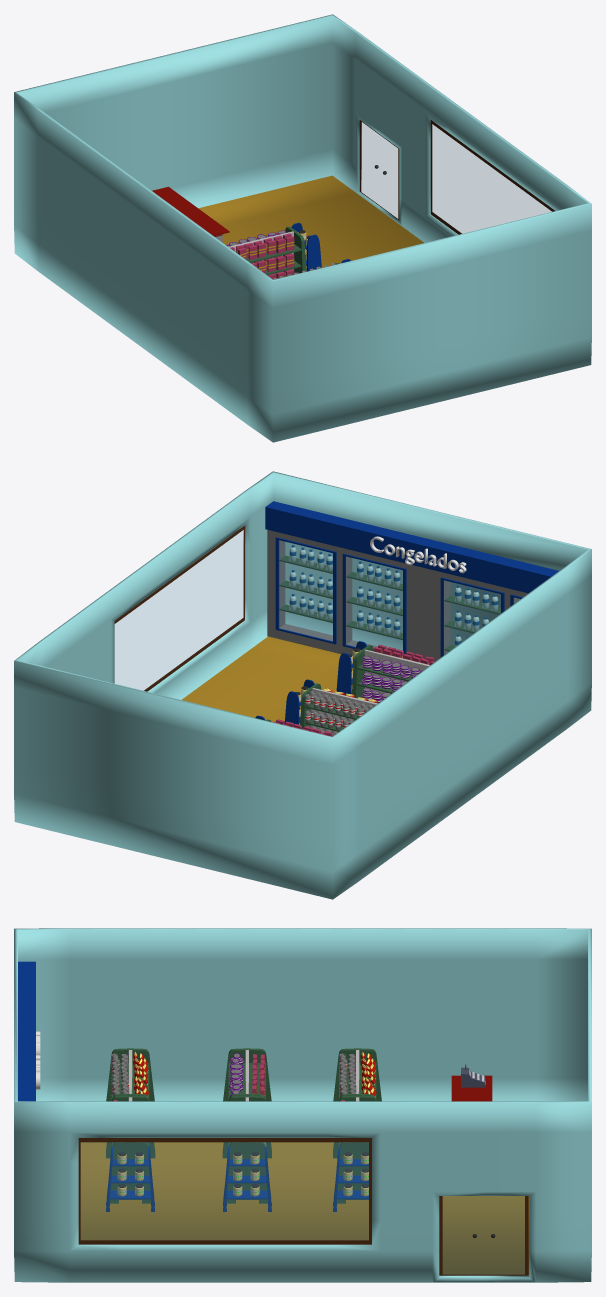
The model's file is Fondo_Tienda.fbx.
3 views of the same model, one above another, from view 1: azimuth 30°, elevation 25°; view 2: azimuth 150°, elevation 25°; view 3: azimuth 270°, elevation 25° (orthographic). The views are drawn at different scales.
Parts seen in each view (by area): view 1: Icosphere.001, Meson, Estante_Grande.004, Estante_Pequeño.002; view 2: Icosphere.001, Congelador, Estante_Grande, Text, Estante_Grande.002, Estante_Pequeño; view 3: Icosphere.001, Congelador, Estante_Grande.002, Estante_Grande, Estante_Grande.003, Estante_Pequeño.001, Estante_Pequeño, Estante_Grande.004, Estante_Grande.005, Estante_Grande.001, Meson, Estante_Pequeño.002.
Boxes of the visible parts, x1,y1,x2,y2 form: Icosphere.001: (14, 14, 591, 442); Meson: (152, 186, 229, 242); Estante_Grande.004: (228, 226, 306, 275); Estante_Pequeño.002: (291, 223, 321, 271); Icosphere.001: (14, 471, 591, 899); Congelador: (265, 501, 558, 661); Estante_Grande: (352, 645, 429, 703); Text: (370, 536, 466, 573); Estante_Grande.002: (300, 683, 377, 732); Estante_Pequeño: (336, 641, 366, 694); Icosphere.001: (14, 928, 591, 1282); Congelador: (18, 961, 35, 1101); Estante_Grande.002: (222, 1095, 271, 1203); Estante_Grande: (106, 1095, 155, 1203); Estante_Grande.003: (223, 1048, 271, 1101); Estante_Pequeño.001: (223, 1146, 271, 1211); Estante_Pequeño: (106, 1146, 154, 1211); Estante_Grande.004: (333, 1095, 376, 1203); Estante_Grande.005: (333, 1048, 381, 1101); Estante_Grande.001: (106, 1048, 154, 1101); Meson: (451, 1075, 492, 1101); Estante_Pequeño.002: (333, 1146, 368, 1211).
Size of the model in its own units: 30157 by 14514 by 42147.
